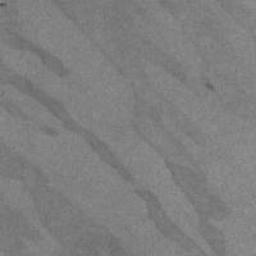Water spot: (47, 0, 256, 256), (0, 0, 207, 256), (0, 132, 131, 256)
